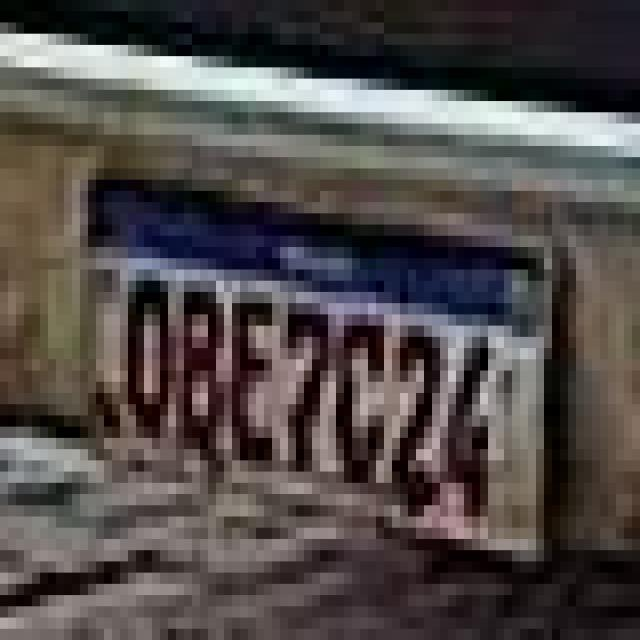4: (449, 316, 502, 544)
7: (282, 292, 330, 489)
B: (176, 274, 225, 454)
C: (338, 304, 393, 488)
E: (233, 286, 280, 472)
O: (124, 262, 174, 439)
